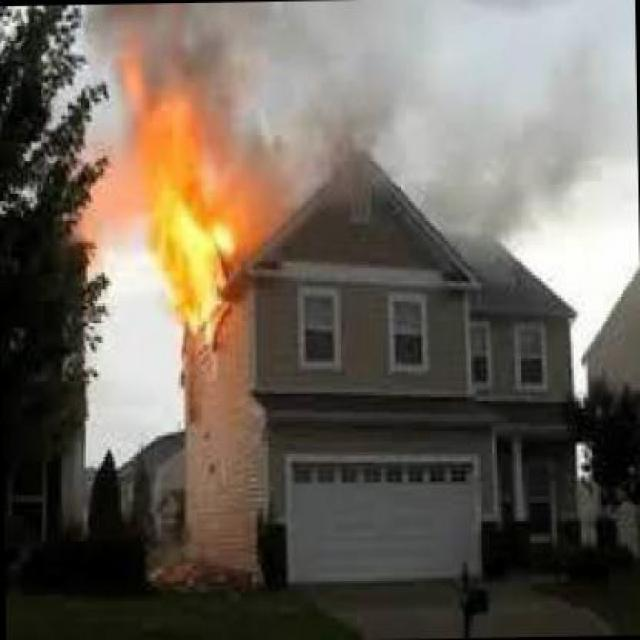fire: (103, 34, 299, 335)
